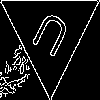U: (25, 8, 73, 68)
